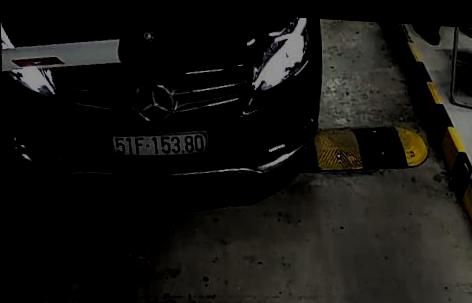License_Plate: (108, 126, 209, 161)
